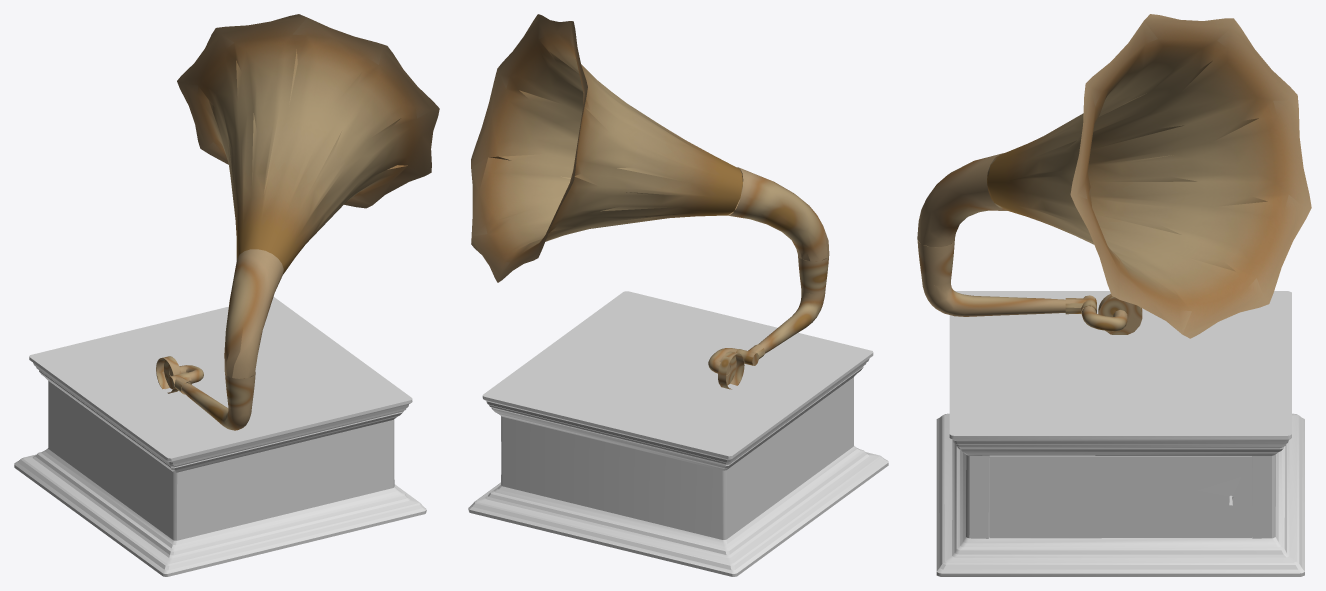
File: Grampon.fbx
3 views of the same model, side by side, from view 1: azimuth 30°, elevation 25°; view 2: azimuth 150°, elevation 25°; view 3: azimuth 270°, elevation 25° (orthographic). The views are drawn at different scales.
Visible parts, largest first — view 1: Grampon; view 2: Grampon; view 3: Grampon.
Boxes of the visible parts, x1=… form: Grampon: x1=14, y1=14, x2=439, y2=576; Grampon: x1=468, y1=14, x2=888, y2=576; Grampon: x1=917, y1=14, x2=1311, y2=576.
Size of the model in its own units: 64.35 by 80.65 by 53.5.
2 materials, 1 textured.
